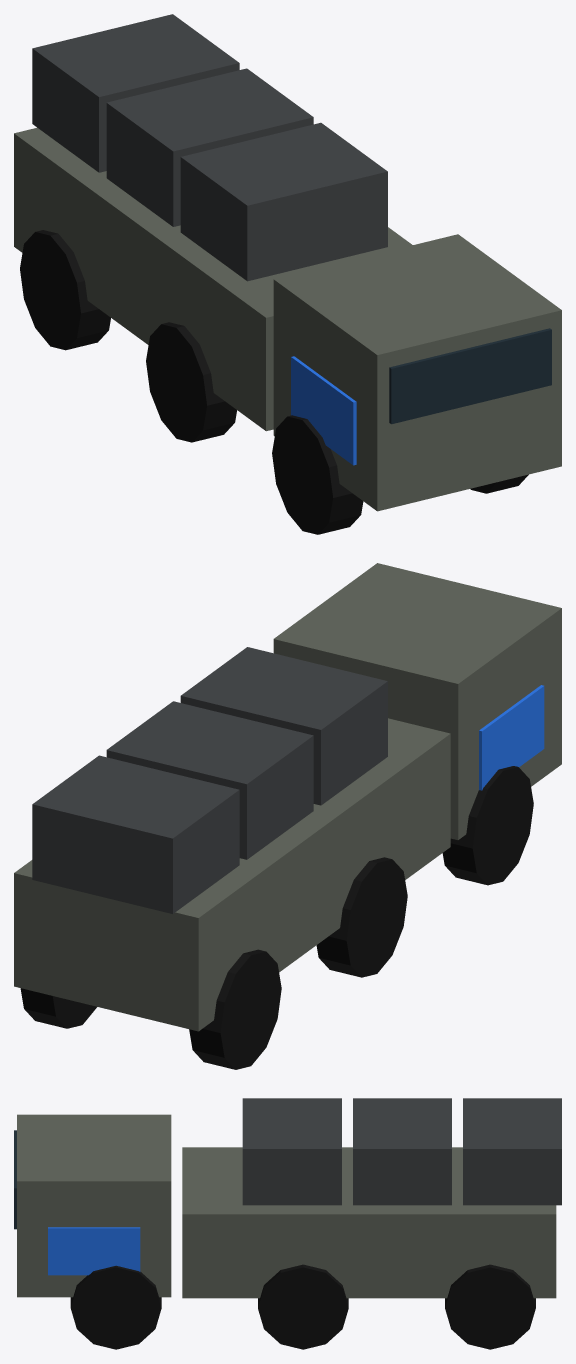
The model's file is eu_logistics_truck.glb.
The picture shows the model from 3 angles, top to bottom: view 1: azimuth 30°, elevation 25°; view 2: azimuth 150°, elevation 25°; view 3: azimuth 270°, elevation 25°; orthographic projection. The views are drawn at different scales.
Parts seen in each view (by area): view 1: cab, body, crate_0, crate_2, crate_1, windshield, wheel_l2, wheel_l1, wheel_l0, team_door_l; view 2: body, cab, crate_2, crate_0, crate_1, wheel_l2, wheel_l1, wheel_l0, team_door_l, wheel_r2; view 3: body, cab, crate_0, crate_1, crate_2, wheel_r1, wheel_r2, wheel_r0, team_door_r.
Part boxes in pixels (<box>): cab: <box>273,234,561,511</box>; body: <box>14,127,412,431</box>; crate_0: <box>180,122,387,281</box>; crate_2: <box>32,14,239,172</box>; crate_1: <box>106,68,313,226</box>; windshield: <box>389,328,551,424</box>; wheel_l2: <box>20,230,110,350</box>; wheel_l1: <box>146,322,236,442</box>; wheel_l0: <box>272,415,363,534</box>; team_door_l: <box>291,356,356,465</box>; body: <box>14,718,450,1031</box>; cab: <box>273,563,561,839</box>; crate_2: <box>32,755,239,913</box>; crate_0: <box>180,647,387,805</box>; crate_1: <box>106,701,313,859</box>; wheel_l2: <box>189,949,281,1069</box>; wheel_l1: <box>316,857,407,977</box>; wheel_l0: <box>442,766,533,885</box>; team_door_l: <box>479,685,544,790</box>; wheel_r2: <box>20,988,96,1028</box>; body: <box>182,1147,556,1298</box>; cab: <box>17,1114,171,1297</box>; crate_0: <box>242,1098,341,1205</box>; crate_1: <box>353,1098,451,1205</box>; crate_2: <box>463,1098,561,1205</box>; wheel_r1: <box>258,1264,348,1349</box>; wheel_r2: <box>445,1264,535,1349</box>; wheel_r0: <box>70,1265,161,1349</box>; team_door_r: <box>48,1227,140,1275</box>.
Size of the model in its own units: 2.5 by 3.04 by 7.97.
